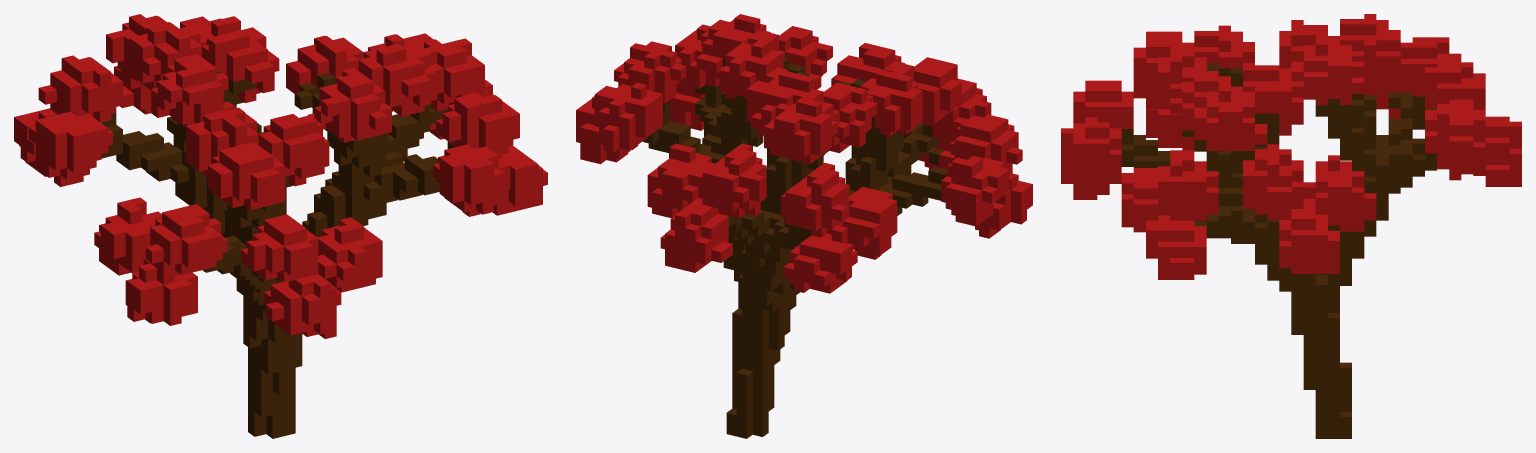
The model's file is Shrub4-0-0.obj.
The picture shows the model from 3 angles, left to right: view 1: azimuth 30°, elevation 25°; view 2: azimuth 150°, elevation 25°; view 3: azimuth 270°, elevation 25°; orthographic projection. The views are drawn at different scales.
Visible parts, largest first — view 1: 0; view 2: 0; view 3: 0.
Boxes of the visible parts, x1,y1,x2,y2 form: 0: (14,14,547,438); 0: (576,14,1032,438); 0: (1061,14,1521,438).
Bounding box in the file's own units: 3.7 × 3.4 × 3.8.
Materials: 1 (1 with a texture image).
